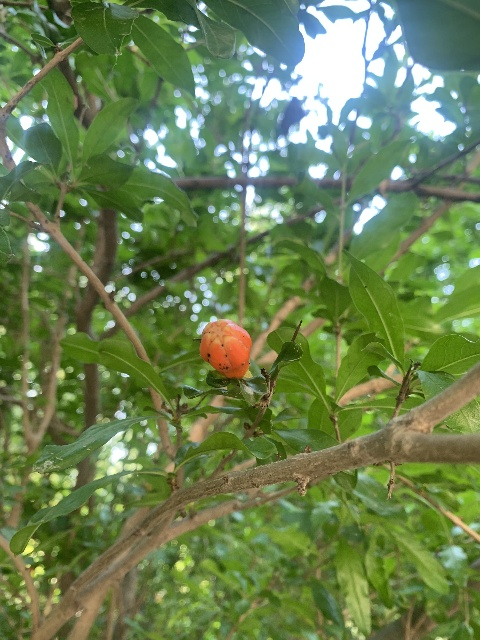bud: (200, 319, 250, 379)
